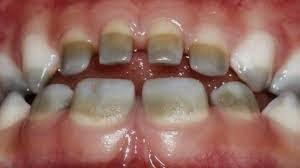Discoloration: (133, 78, 214, 132), (67, 80, 137, 131), (233, 41, 279, 94), (213, 81, 263, 127), (26, 83, 73, 131), (23, 41, 63, 97), (183, 35, 231, 79), (95, 18, 139, 65), (146, 24, 190, 69), (59, 34, 98, 79)
